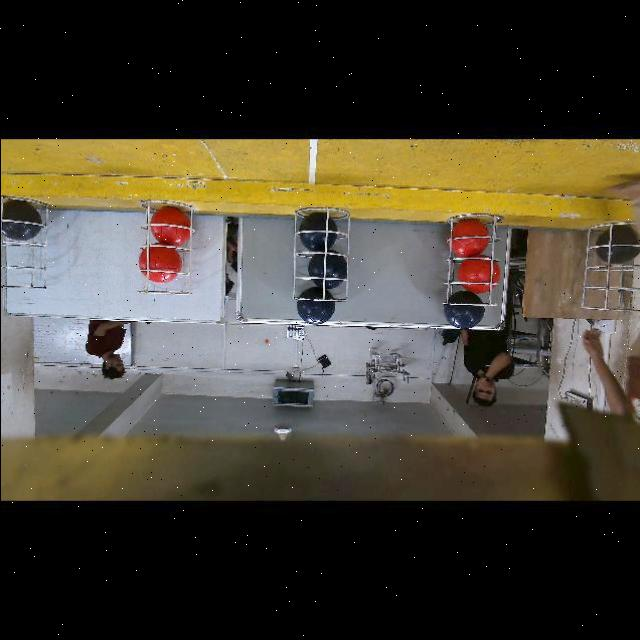P: (1, 198, 41, 239), (596, 226, 640, 263), (442, 289, 483, 327), (296, 285, 335, 324), (307, 249, 347, 287), (298, 212, 337, 250)
R: (149, 205, 190, 244), (138, 245, 181, 281), (450, 217, 488, 255), (458, 256, 499, 291)
S: (441, 206, 503, 304), (294, 206, 354, 304), (137, 200, 193, 296), (578, 224, 640, 310), (0, 200, 48, 296)
